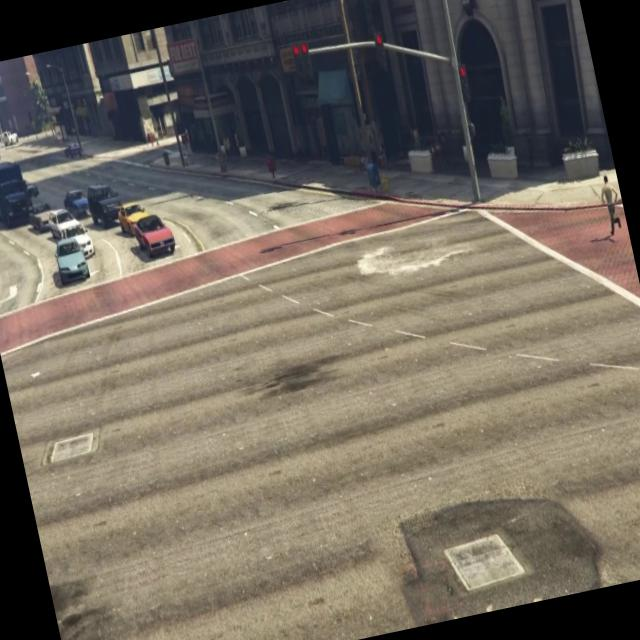Red-Signal: (277, 18, 327, 96), (440, 38, 478, 102), (362, 19, 396, 80)
